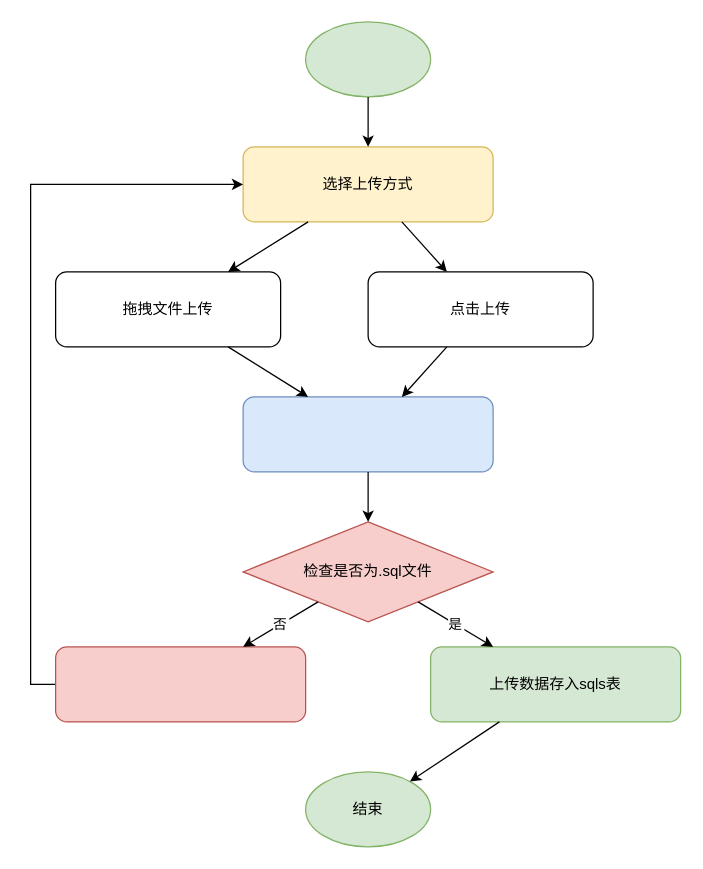
Some shapes in this 703 by 869 pixel diagram are drawn without their labels. Each missing label, with the centre of its shape:
"开始" goes at pixel 367 59.
"点击‘上传文件’按钮" goes at pixel 367 434.
"错误：非.sql文件\n手动移除异常文件" goes at pixel 180 684.
